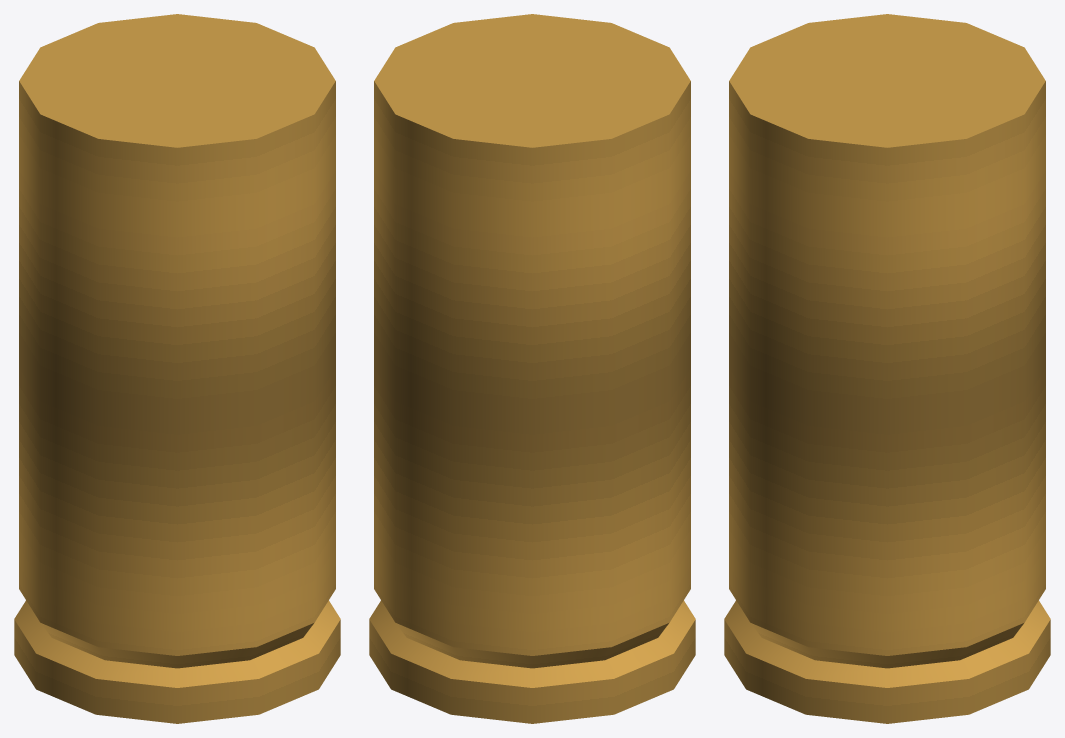
Rendered from pistol.gltf.
3 views of the same model, side by side, from view 1: azimuth 30°, elevation 25°; view 2: azimuth 150°, elevation 25°; view 3: azimuth 270°, elevation 25° (orthographic).
Visible parts, largest first — view 1: pistol; view 2: pistol; view 3: pistol.
Part boxes in pixels (x1,y1,x2,y2): pistol: [14, 14, 340, 723]; pistol: [369, 14, 695, 723]; pistol: [724, 14, 1050, 723].
Bounding box in the file's own units: 0.0099 × 0.0192 × 0.0099.
Materials: 1 (1 with a texture image).
